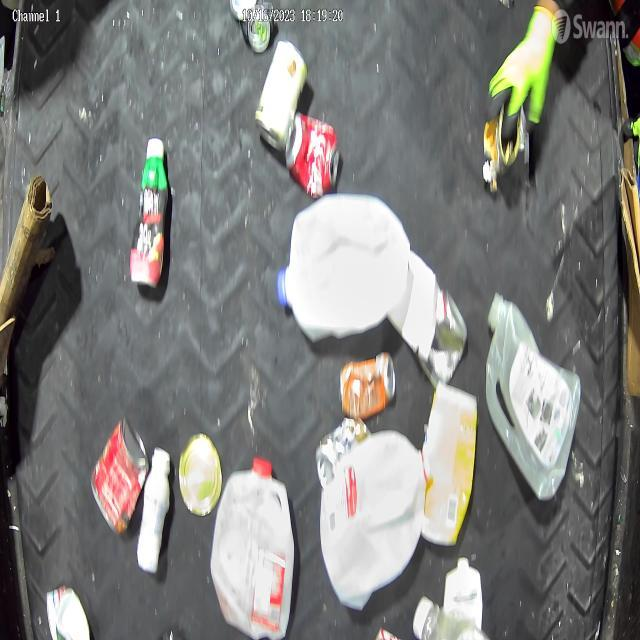can: (89, 412, 150, 536), (254, 40, 310, 152), (284, 110, 342, 199), (418, 290, 468, 390), (316, 418, 371, 489), (338, 351, 396, 418), (482, 106, 526, 194), (178, 430, 222, 516), (230, 0, 276, 53)
milk_jug: (319, 427, 434, 614), (484, 291, 582, 502), (276, 192, 411, 344), (208, 455, 298, 640)
